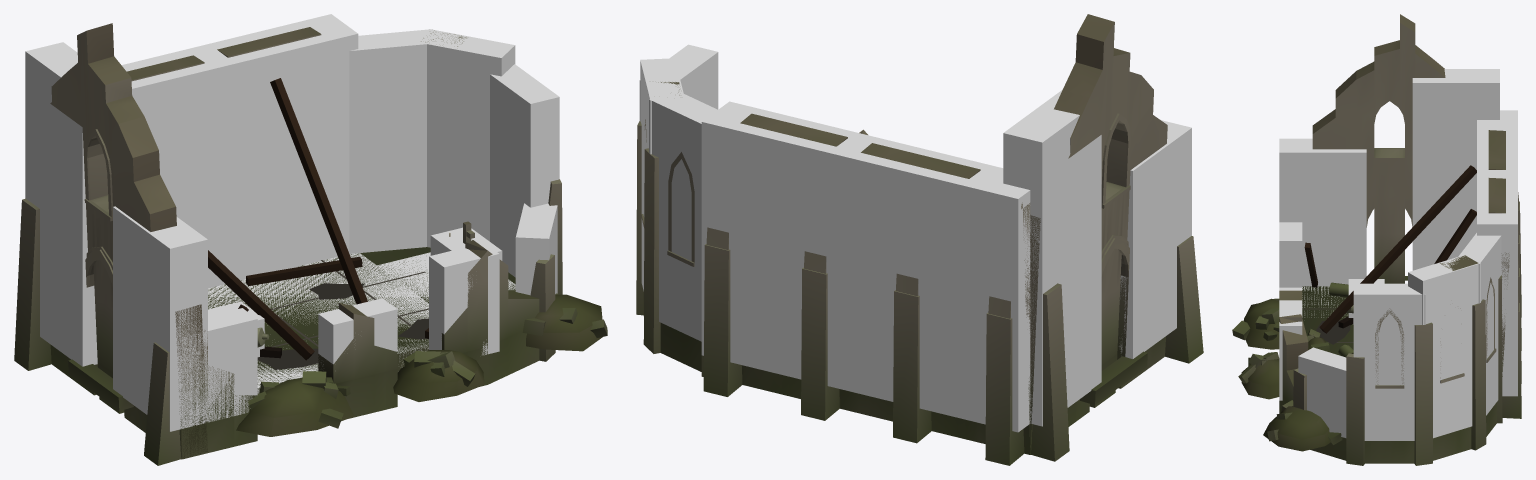
File: drowned_chapel.glb
3 renders of one model, left to right at view 1: azimuth 30°, elevation 25°; view 2: azimuth 150°, elevation 25°; view 3: azimuth 270°, elevation 25°, orthographic. The views are drawn at different scales.
Parts seen in each view (by area): view 1: drowned_chapel, COL_north, COL_apse_n, COL_west_s, COL_west_n, COL_apse_ne, COL_apse_e, COL_south_w, WALK_floor, COL_south_e, COL_apse_se, COL_south_m (+2 smaller); view 2: COL_north, drowned_chapel, COL_west_n, COL_west_s, COL_apse_n, COL_apse_ne, COL_apse_e; view 3: drowned_chapel, COL_west_n, COL_west_s, COL_apse_e, COL_apse_ne, COL_north, COL_apse_se, COL_apse_n, COL_south_w, COL_south_e.
Boxes of the visible parts, box(x1,y1,x2,y2) form: drowned_chapel: box(14, 23, 607, 465); COL_north: box(121, 14, 358, 288); COL_apse_n: box(349, 29, 439, 253); COL_west_s: box(113, 206, 207, 431); COL_west_n: box(25, 42, 97, 366); COL_apse_ne: box(416, 29, 515, 247); COL_apse_e: box(490, 64, 559, 277); COL_south_w: box(181, 308, 257, 428); WALK_floor: box(208, 253, 428, 393); COL_south_e: box(429, 243, 499, 355); COL_apse_se: box(515, 203, 557, 295); COL_south_m: box(318, 298, 397, 366); COL_north: box(701, 101, 1030, 432); drowned_chapel: box(636, 14, 1203, 465); COL_west_n: box(1003, 90, 1101, 426); COL_west_s: box(1119, 120, 1191, 358); COL_apse_n: box(649, 94, 717, 341); COL_apse_ne: box(640, 58, 684, 291); COL_apse_e: box(639, 44, 718, 121); drowned_chapel: box(1232, 14, 1521, 465); COL_west_n: box(1412, 69, 1499, 270); COL_west_s: box(1279, 138, 1366, 286); COL_apse_e: box(1353, 283, 1425, 440); COL_apse_ne: box(1408, 257, 1480, 438); COL_north: box(1477, 110, 1517, 396); COL_apse_se: box(1298, 347, 1346, 437); COL_apse_n: box(1456, 233, 1501, 415); COL_south_w: box(1279, 222, 1302, 287); COL_south_e: box(1279, 305, 1302, 400).
Size of the model in its own units: 15.72 by 12.37 by 11.29.
